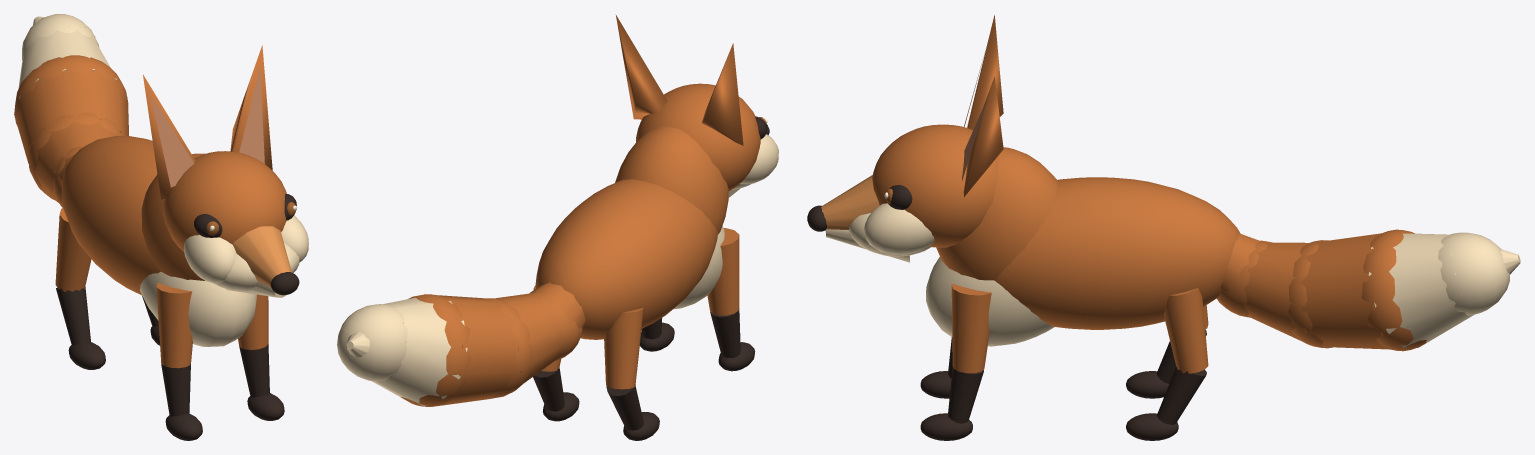
Rendered from fenec.glb.
The picture shows the model from 3 angles, left to right: view 1: azimuth 30°, elevation 25°; view 2: azimuth 150°, elevation 25°; view 3: azimuth 270°, elevation 25°; orthographic projection. The views are drawn at different scales.
Parts seen in each view (by area): view 1: fenec, head, tail, picior (×3), ureche1, ureche-1; view 2: fenec, tail, picior (×4), head, ureche-1, ureche1; view 3: fenec, tail, head, picior (×4), ureche1, ureche-1.
Boxes of the visible parts, x1=… form: fenec: x1=61, y1=136, x2=256, y2=346; head: x1=163, y1=151, x2=308, y2=297; tail: x1=14, y1=14, x2=128, y2=207; picior (×3): x1=55, y1=208, x2=284, y2=440; ureche1: x1=230, y1=45, x2=272, y2=170; ureche-1: x1=143, y1=74, x2=195, y2=199; fenec: x1=535, y1=126, x2=728, y2=339; tail: x1=337, y1=282, x2=585, y2=406; picior (×4): x1=533, y1=228, x2=755, y2=440; head: x1=636, y1=83, x2=778, y2=197; ureche-1: x1=702, y1=43, x2=743, y2=145; ureche1: x1=615, y1=14, x2=667, y2=119; fenec: x1=926, y1=147, x2=1240, y2=346; tail: x1=1216, y1=229, x2=1520, y2=351; head: x1=807, y1=124, x2=998, y2=262; picior (×4): x1=920, y1=283, x2=1208, y2=440; ureche1: x1=962, y1=76, x2=1003, y2=196; ureche-1: x1=964, y1=15, x2=1003, y2=129.
Bounding box in the file's own units: 0.5733 × 1.1 × 1.91.
